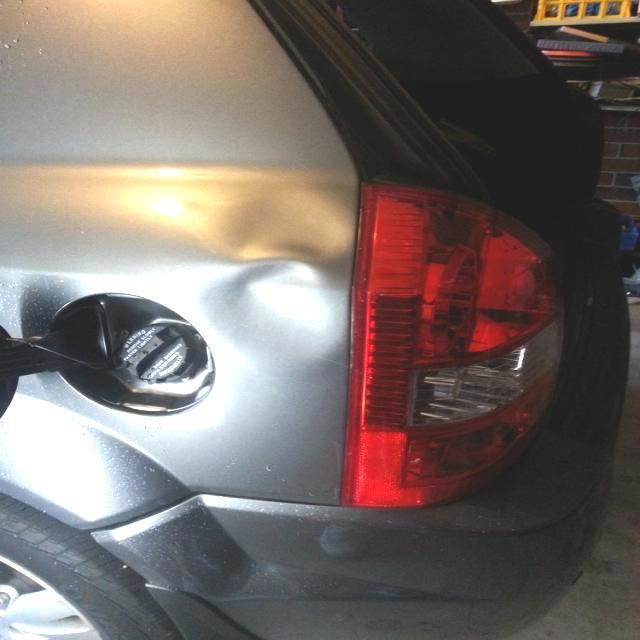minor: (176, 165, 350, 376)
